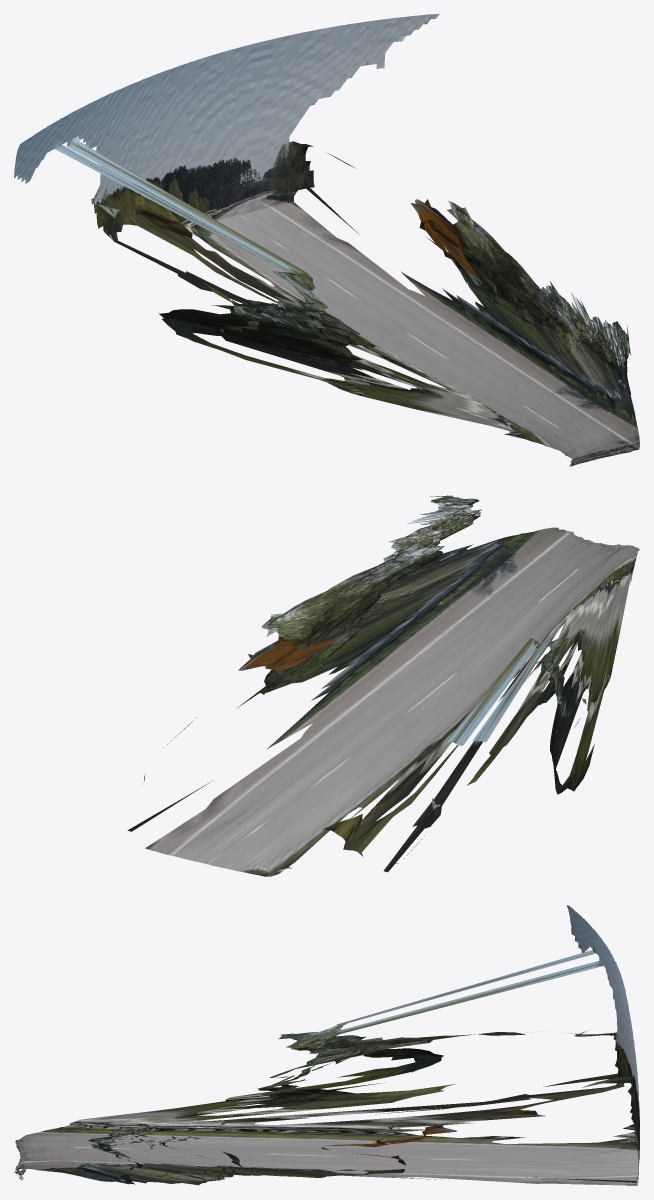
3 views of the same model, one above another, from view 1: azimuth 30°, elevation 25°; view 2: azimuth 150°, elevation 25°; view 3: azimuth 270°, elevation 25° (orthographic). The views are drawn at different scales.
Visible parts, largest first — view 1: defaultobject; view 2: defaultobject; view 3: defaultobject.
Boxes of the visible parts, x1=… form: defaultobject: x1=14, y1=14, x2=639, y2=466; defaultobject: x1=127, y1=495, x2=639, y2=876; defaultobject: x1=14, y1=905, x2=639, y2=1185.
Bounding box in the file's own units: 32.46 × 12.39 × 44.39.
Materials: 1 (1 with a texture image).
